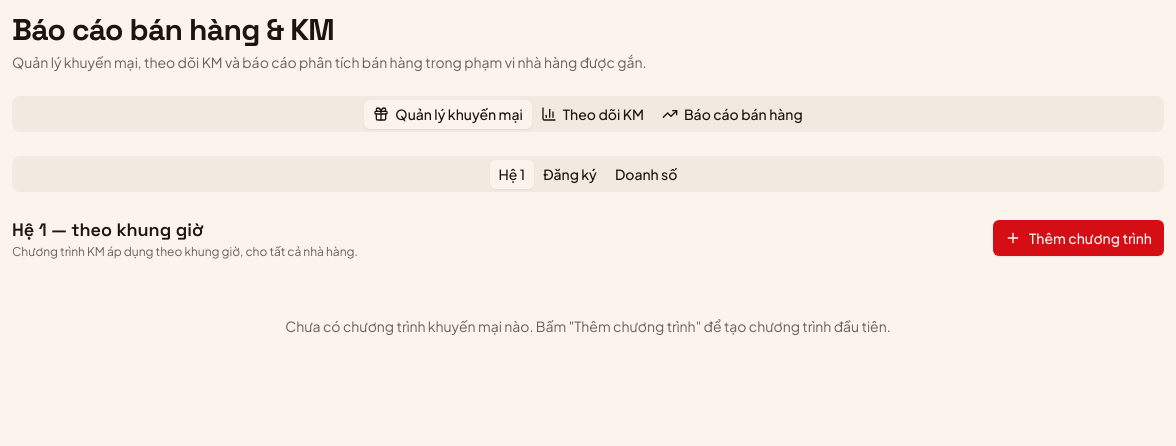
SalesPromoReportingPage KM tracking tab › renders the KM tracking content when the tracking tab is selected
This screenshot has width=1176, height=446.
// Radix Tabs activates on pointer events, so use userEvent.
Click the tab with test id "sales_reporting.tab.tracking": {"x": 592, "y": 114} [532,100,653,128]
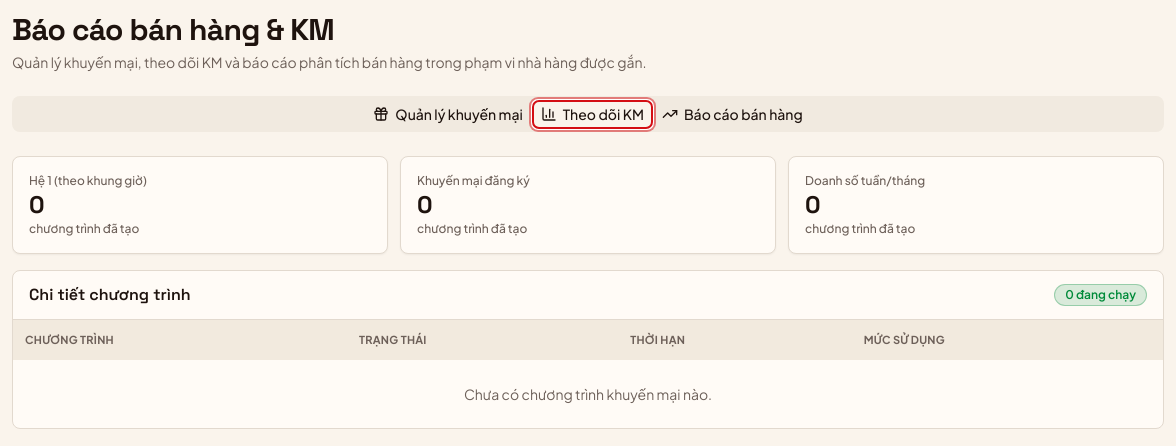
Expected: the panel with test id "sales_reporting.tab.tracking.content" is shown, [12,156,1164,429]
Expected: the heading "Chi tiết chương trình" is shown, [29,283,191,307]
